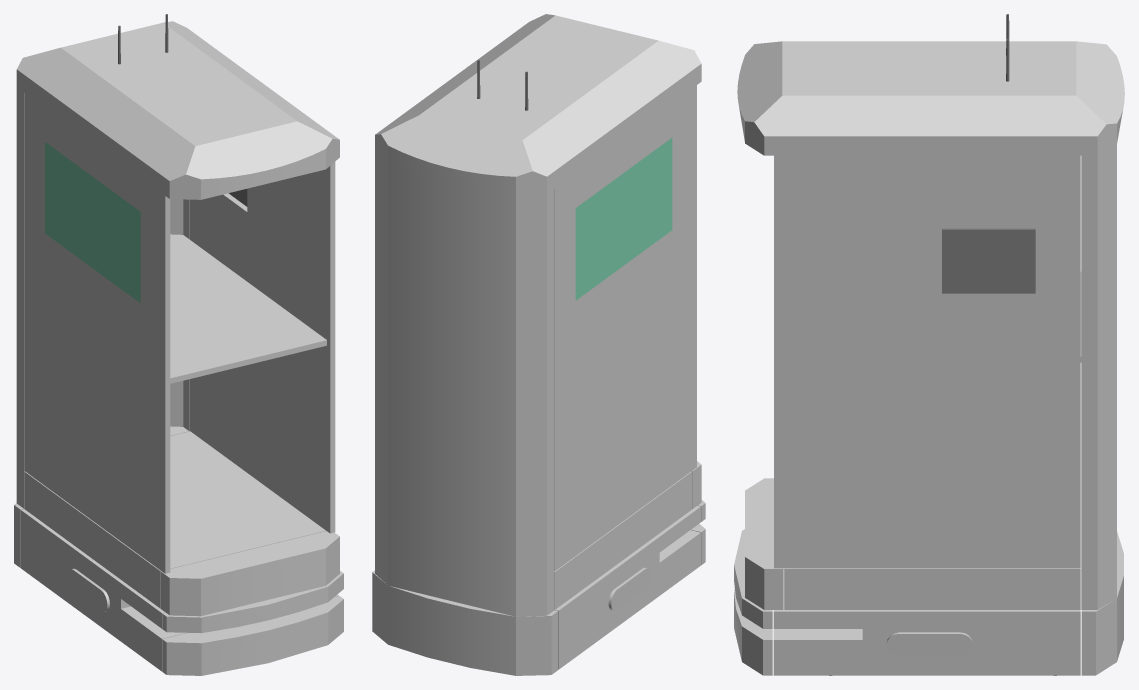
The model's file is IGVRobot.fbx.
The picture shows the model from 3 angles, left to right: view 1: azimuth 30°, elevation 25°; view 2: azimuth 150°, elevation 25°; view 3: azimuth 270°, elevation 25°; orthographic projection. The views are drawn at different scales.
Parts seen in each view (by area): view 1: IGVRobot; view 2: IGVRobot; view 3: IGVRobot.
Part boxes in pixels (x1,y1,x2,y2): IGVRobot: (14, 14, 343, 675); IGVRobot: (372, 14, 705, 675); IGVRobot: (734, 14, 1124, 675).
Bounding box in the file's own units: 697 × 1183 × 2053.
